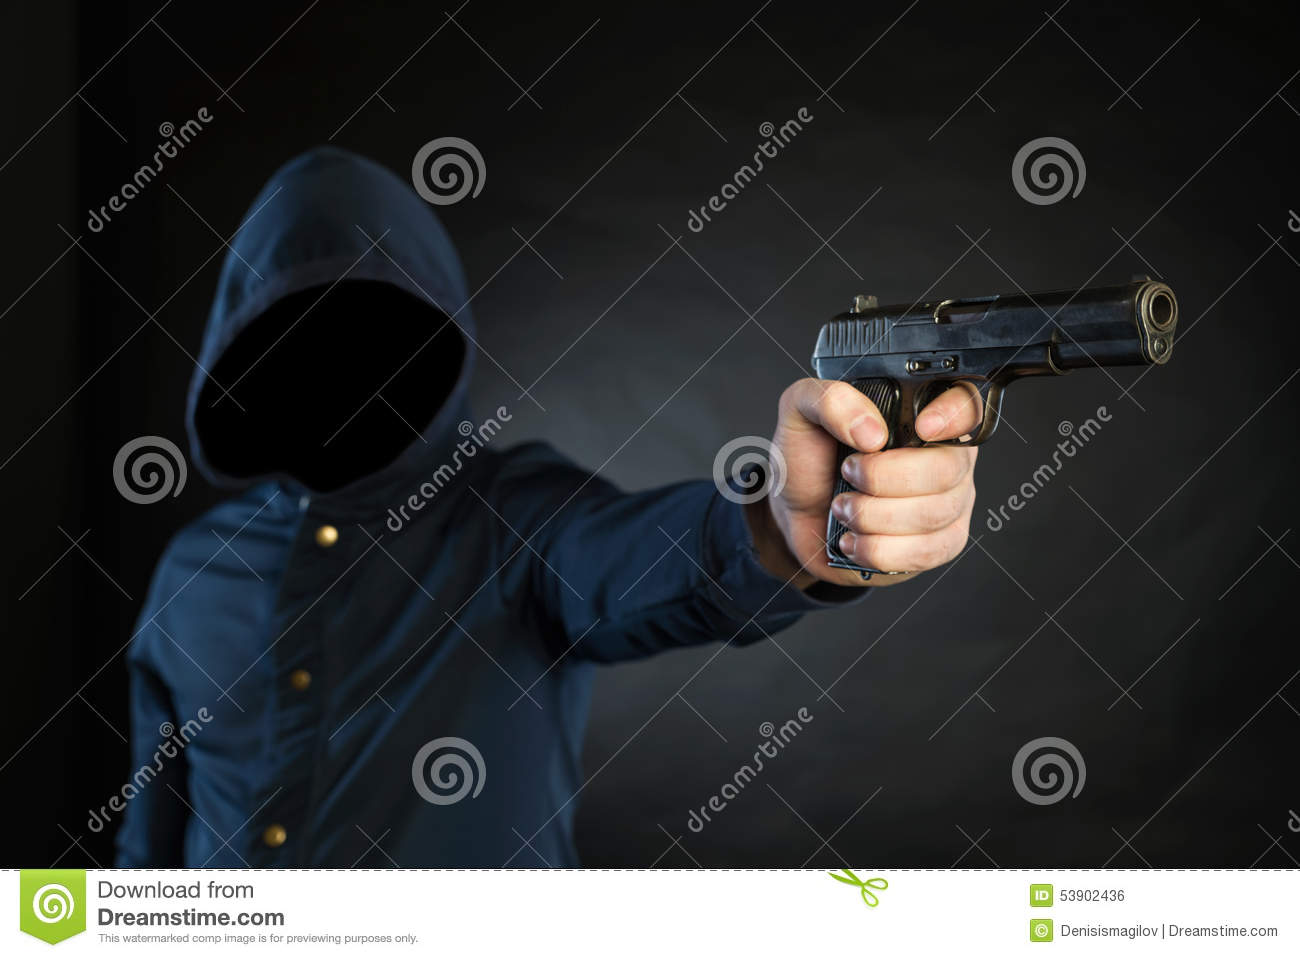pistol: (809, 271, 1179, 579)
